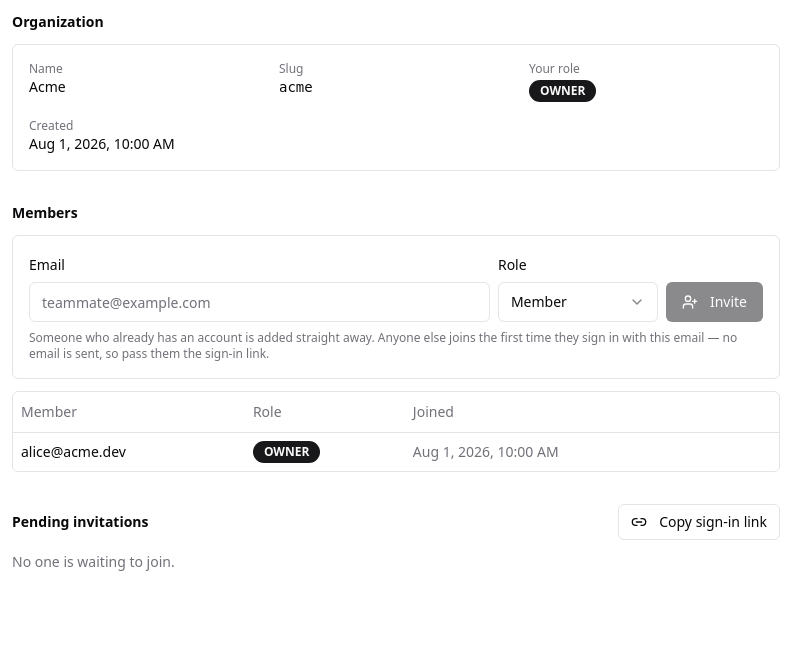
Test: OrganizationTab invitations › invites someone new: PENDING, says they join on first sign-in, and lists them
Expected: the text "No one is waiting to join." is shown, x1=12 y1=552 x2=175 y2=570
Type "dana@acme.dev" into the field with test id "member-email" at (259, 302), box x1=29 y1=282 x2=490 y2=322
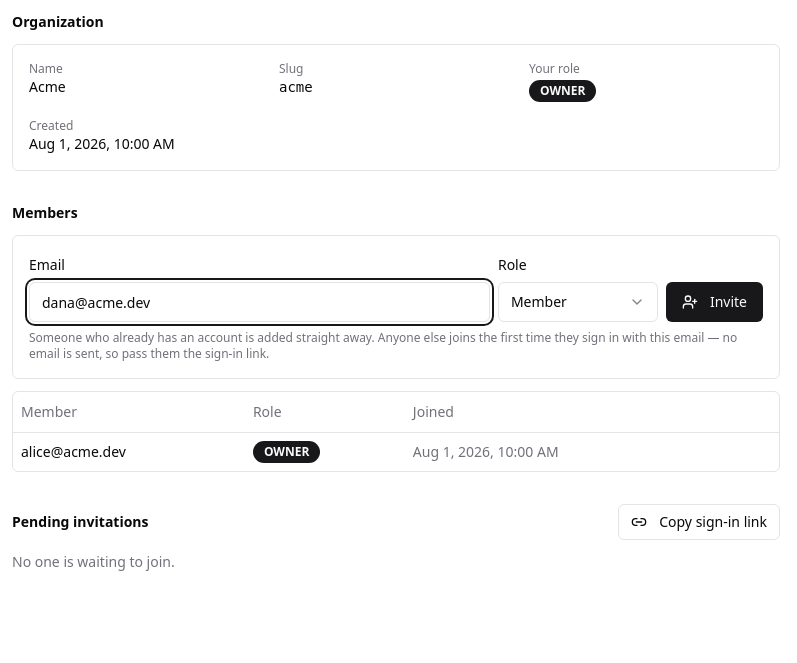
Click the button with test id "member-invite" at (714, 302), box x1=666 y1=282 x2=763 y2=322
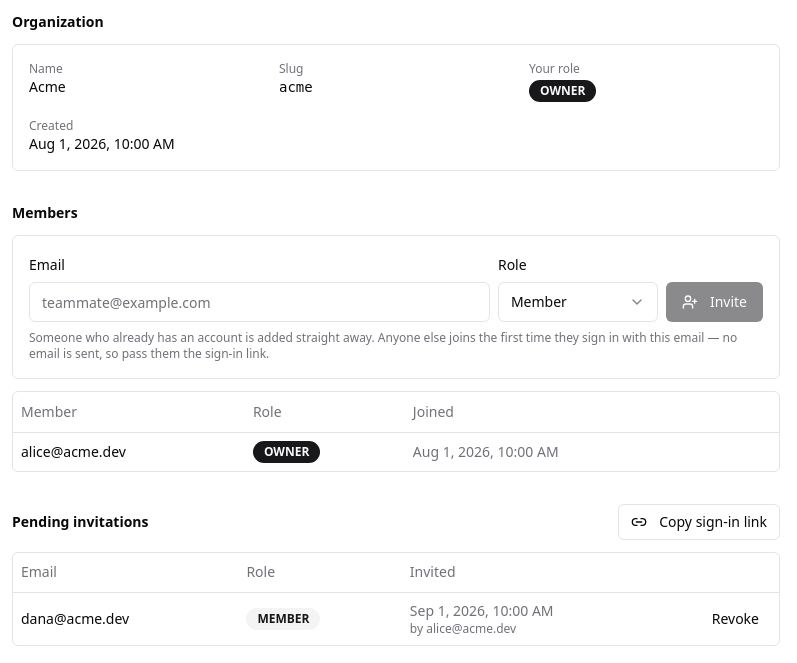
Now the row with test id "invitation-row-dana@acme.dev" is shown, box x1=13 y1=592 x2=779 y2=645
